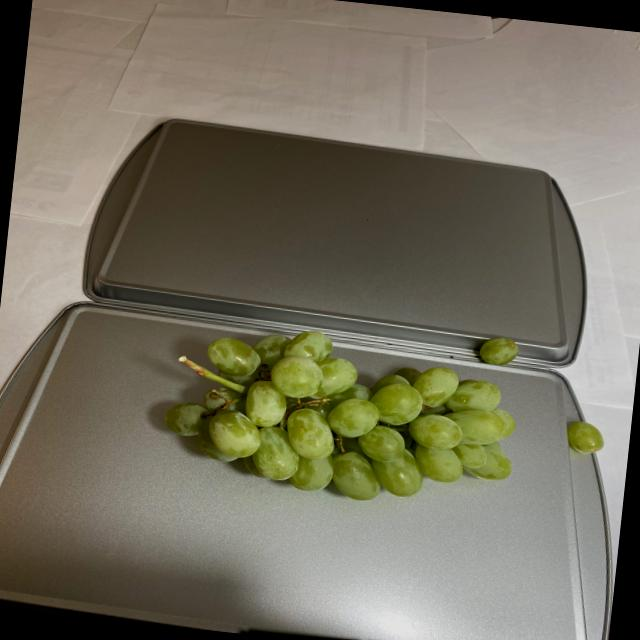grapes: (145, 302, 532, 504), (560, 417, 613, 459)
